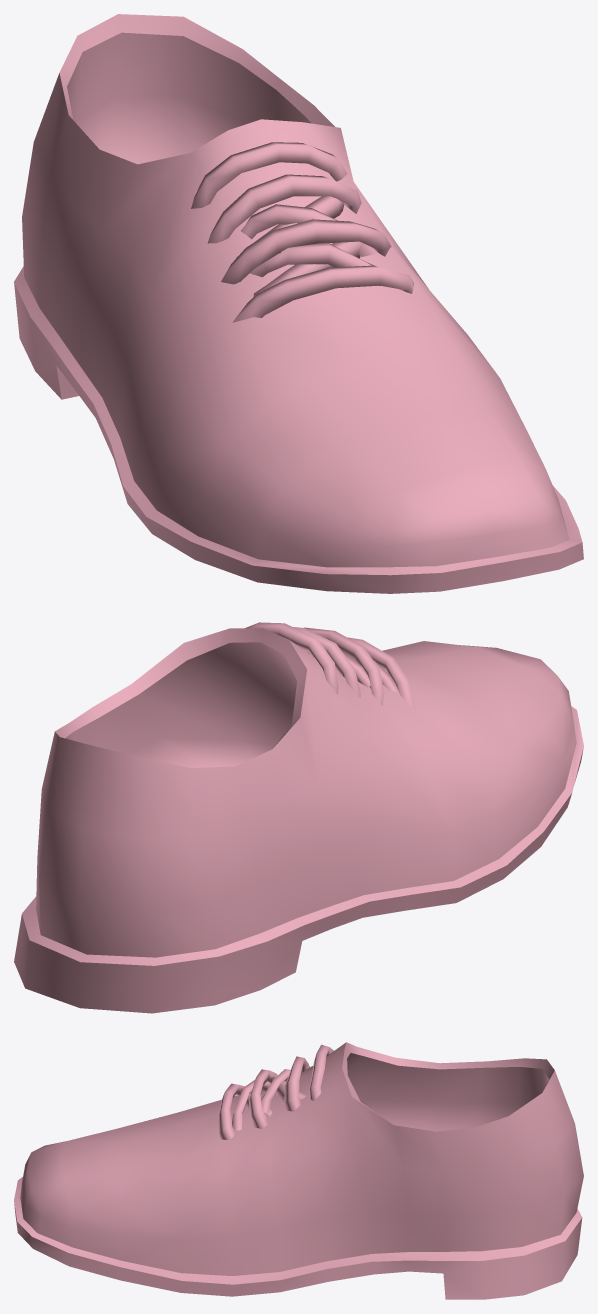
The model's file is Shoe.fbx.
The picture shows the model from 3 angles, top to bottom: view 1: azimuth 30°, elevation 25°; view 2: azimuth 150°, elevation 25°; view 3: azimuth 270°, elevation 25°; orthographic projection. The views are drawn at different scales.
Parts seen in each view (by area): view 1: Shoe; view 2: Shoe; view 3: Shoe.
Part boxes in pixels (bbox=[...]): Shoe: bbox=[14, 14, 583, 593]; Shoe: bbox=[14, 622, 583, 1013]; Shoe: bbox=[14, 1042, 583, 1299].
Bounding box in the file's own units: 37.06 × 31.3 × 80.4.
